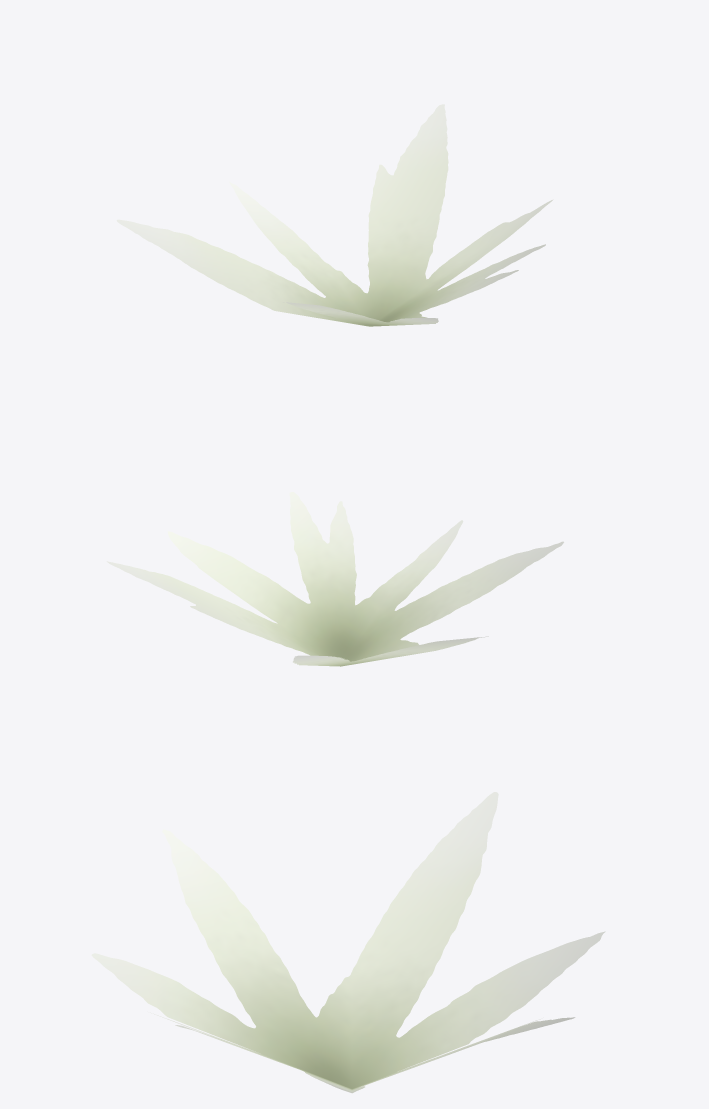
File: SnowGrass_Alpha_02_001.FBX
3 renders of one model, top to bottom at view 1: azimuth 30°, elevation 25°; view 2: azimuth 150°, elevation 25°; view 3: azimuth 270°, elevation 25°, orthographic. The views are drawn at different scales.
Visible parts, largest first — view 1: SnowGrass_Alpha_02_001; view 2: SnowGrass_Alpha_02_001; view 3: SnowGrass_Alpha_02_001.
Boxes of the visible parts, bbox=[...] form: SnowGrass_Alpha_02_001: bbox=[116, 104, 553, 326]; SnowGrass_Alpha_02_001: bbox=[106, 492, 563, 666]; SnowGrass_Alpha_02_001: bbox=[91, 792, 605, 1093].
Bounding box in the file's own units: 2.34 × 0.8849 × 2.3.
